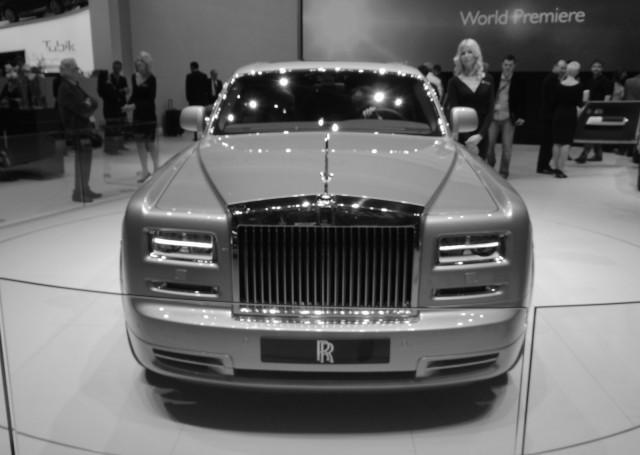car: (114, 36, 522, 411)
